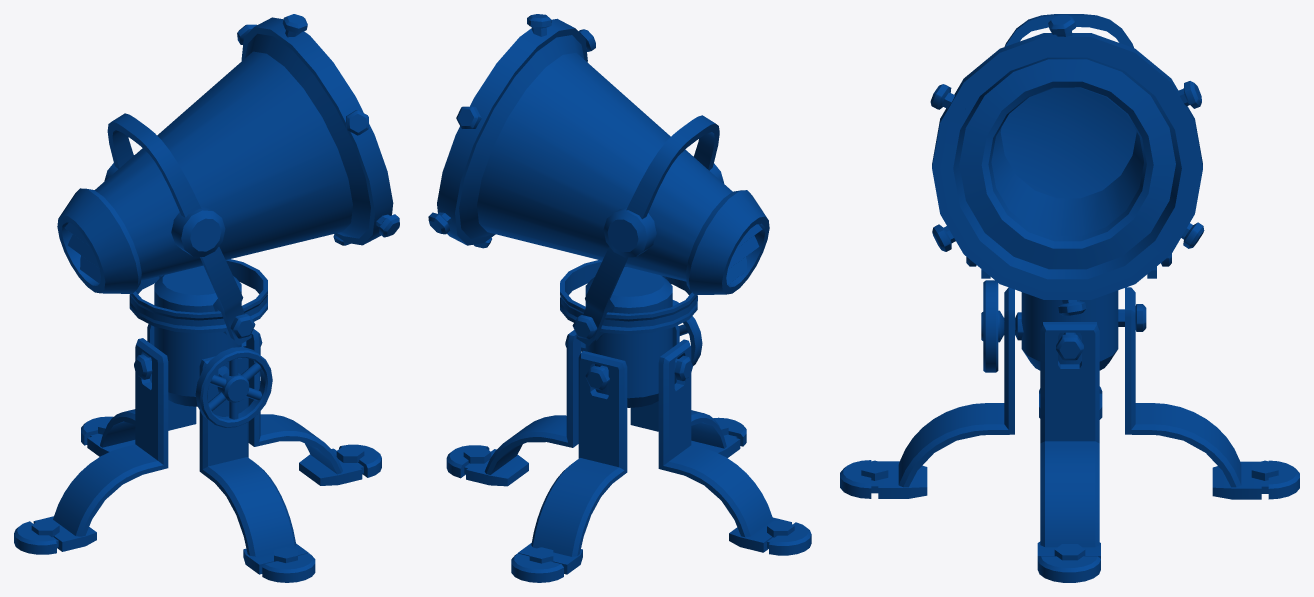
The model's file is PBR - Metallic Roughness.fbx.
3 renders of one model, left to right at view 1: azimuth 30°, elevation 25°; view 2: azimuth 150°, elevation 25°; view 3: azimuth 270°, elevation 25°, orthographic. The views are drawn at different scales.
Parts seen in each view (by area): view 1: Cylinder217; view 2: Cylinder217; view 3: Cylinder217.
Boxes of the visible parts, left/top/right/bottom form: Cylinder217: left=14, top=14, right=399, bottom=582; Cylinder217: left=428, top=14, right=811, bottom=582; Cylinder217: left=840, top=14, right=1299, bottom=582.
Bounding box in the file's own units: 8195 × 10204 × 8195.
